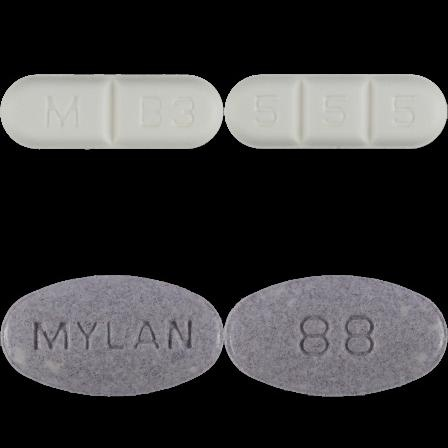51079-960: (0, 0, 224, 224)
